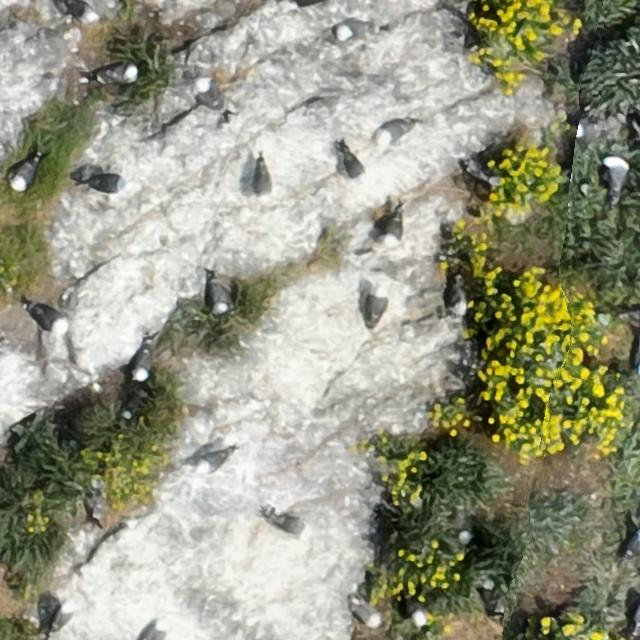umineko: (370, 118, 410, 148), (90, 172, 139, 196), (250, 158, 274, 206), (197, 80, 226, 111), (32, 306, 66, 329), (270, 513, 306, 534), (141, 616, 169, 640), (103, 63, 138, 82), (606, 158, 625, 192), (13, 160, 36, 188), (354, 604, 382, 627), (198, 452, 227, 472), (335, 22, 370, 38), (407, 600, 427, 628), (134, 349, 151, 380), (342, 155, 363, 180), (465, 162, 491, 182), (369, 287, 385, 318), (384, 216, 400, 245), (211, 284, 228, 311), (625, 530, 639, 557)
